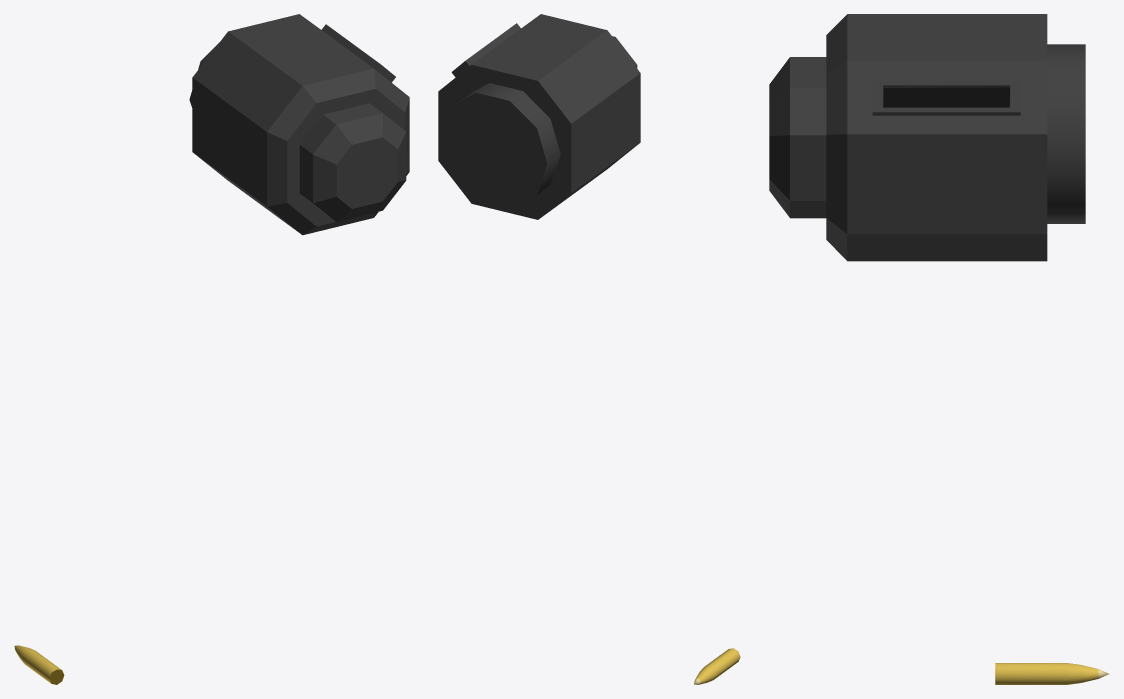
Rendered from Gattling_Bullet.fbx.
3 views of the same model, side by side, from view 1: azimuth 30°, elevation 25°; view 2: azimuth 150°, elevation 25°; view 3: azimuth 270°, elevation 25° (orthographic). The views are drawn at different scales.
Visible parts, largest first — view 1: Body, Bullet1; view 2: Body, Bullet1; view 3: Body, Bullet1.
Part boxes in pixels (x1,y1,x2,y2): Body: (189,14,409,235); Bullet1: (14,645,64,684); Body: (438,14,640,219); Bullet1: (694,648,740,684); Body: (769,14,1085,261); Bullet1: (995,663,1108,684).
Bounding box in the file's own units: 2.31 × 4.29 × 1.66.
